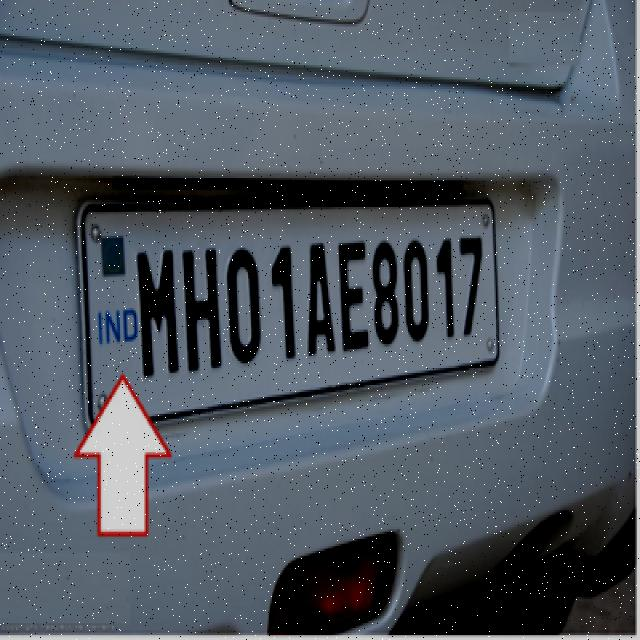Autre: (82, 204, 506, 434)
